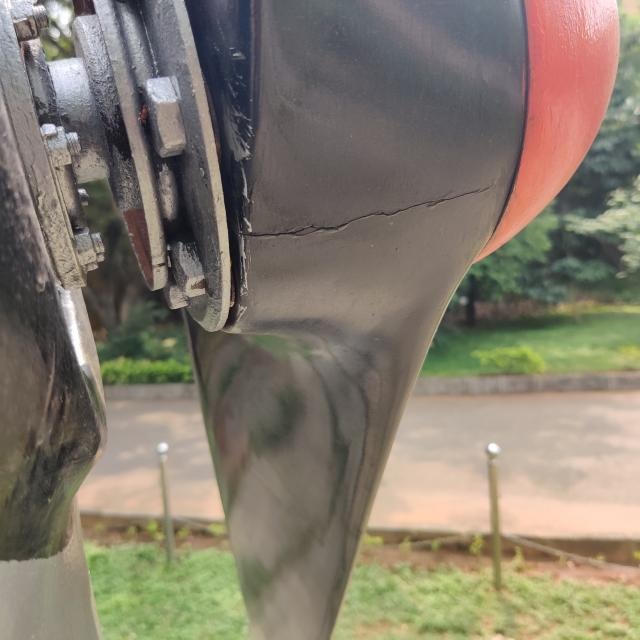crack: (247, 156, 503, 269)
